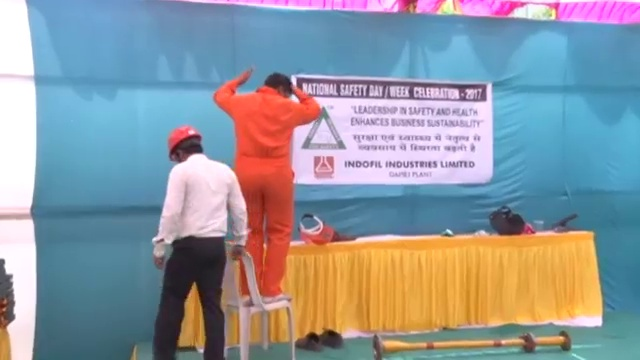helmet: (164, 122, 202, 156)
helmet_off: (260, 69, 295, 99)
helmet_on: (163, 123, 206, 168)
person: (213, 68, 320, 305), (150, 123, 246, 360)
